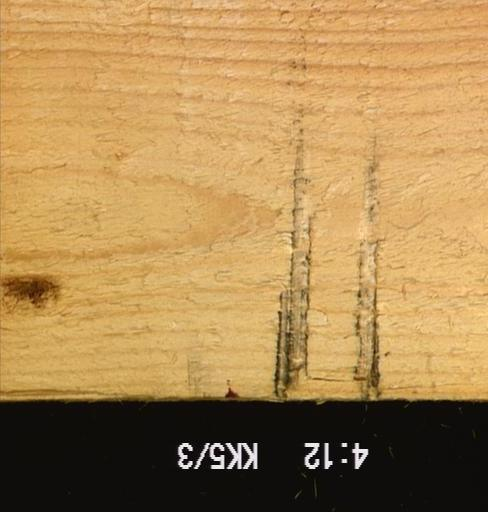wave: (0, 387, 158, 402)
